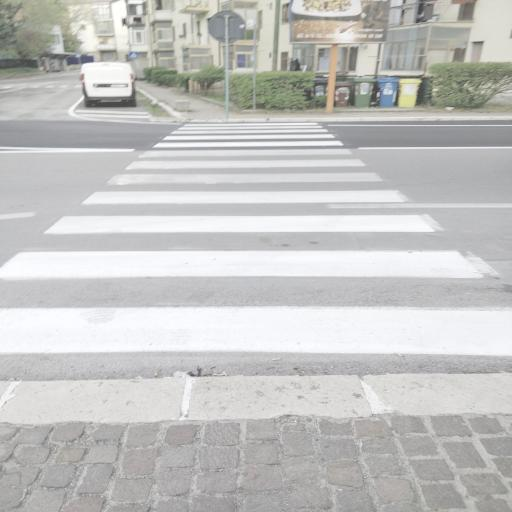crosswalk: (36, 184, 446, 240), (135, 140, 358, 160)
